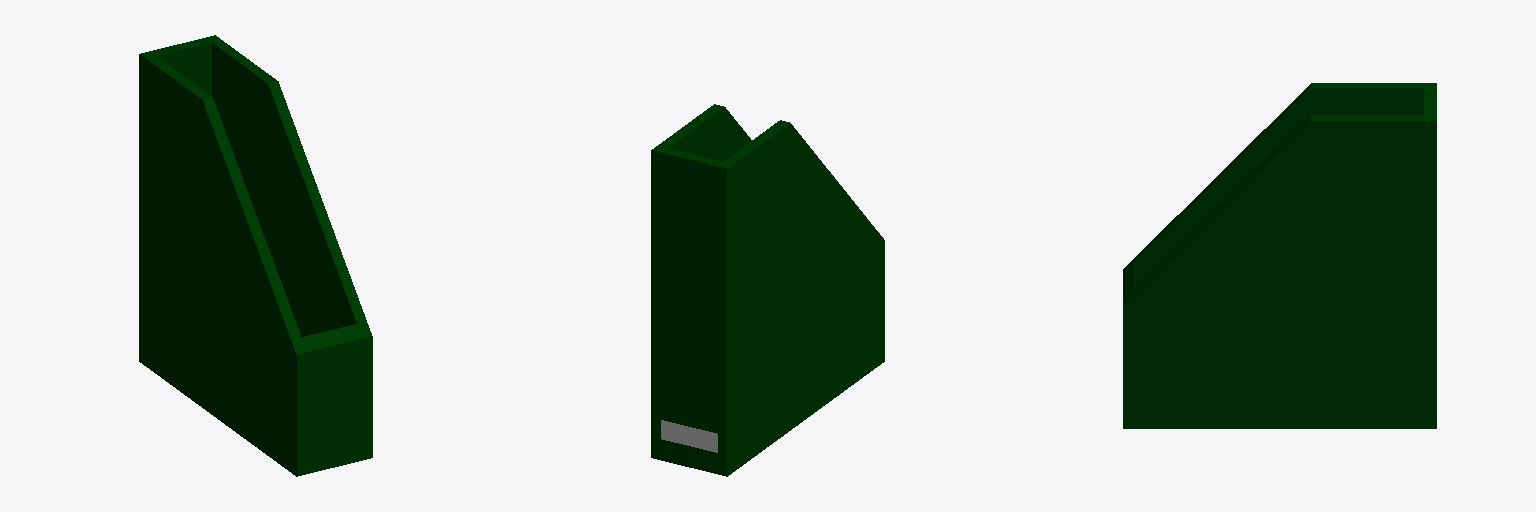
Rendered from Folder_Holder_empty.02.obj.
3 views of the same model, side by side, from view 1: azimuth 30°, elevation 25°; view 2: azimuth 150°, elevation 25°; view 3: azimuth 270°, elevation 25° (orthographic).
Visible parts, largest first — view 1: Folder_Holder_empty.02; view 2: Folder_Holder_empty.02; view 3: Folder_Holder_empty.02.
Part boxes in pixels (left/top/right/bottom): Folder_Holder_empty.02: left=139, top=35, right=372, bottom=476; Folder_Holder_empty.02: left=651, top=104, right=884, bottom=476; Folder_Holder_empty.02: left=1123, top=83, right=1436, bottom=428.
Bounding box in the file's own units: 0.0918 × 0.3556 × 0.3286.